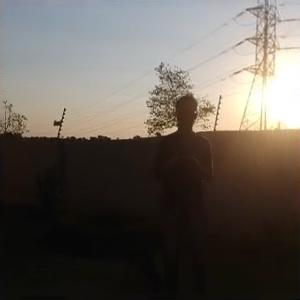follow: (145, 89, 215, 295)
